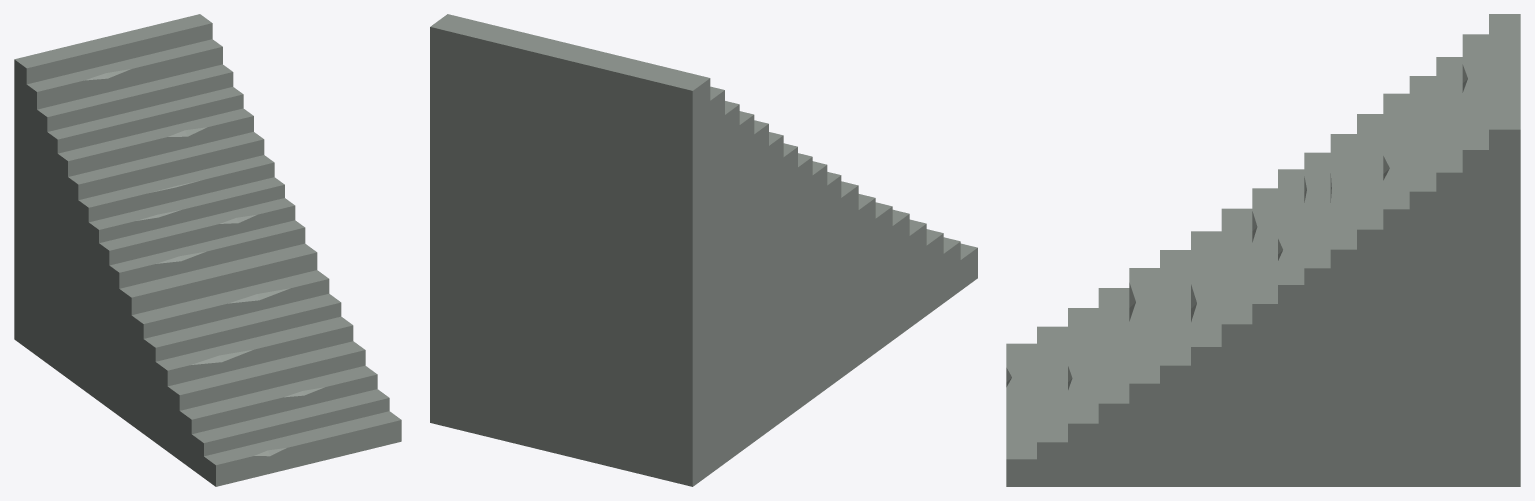
File: SM_Env_Stair_06.fbx
3 renders of one model, left to right at view 1: azimuth 30°, elevation 25°; view 2: azimuth 150°, elevation 25°; view 3: azimuth 270°, elevation 25°, orthographic. The views are drawn at different scales.
Visible parts, largest first — view 1: SM_Env_Stair_06; view 2: SM_Env_Stair_06; view 3: SM_Env_Stair_06.
Part boxes in pixels (left/top/right/bottom): SM_Env_Stair_06: left=14, top=14, right=401, bottom=486; SM_Env_Stair_06: left=430, top=14, right=977, bottom=486; SM_Env_Stair_06: left=1006, top=14, right=1520, bottom=486.
Size of the model in its own units: 98.43 by 142 by 185.
1 material, 1 textured.
